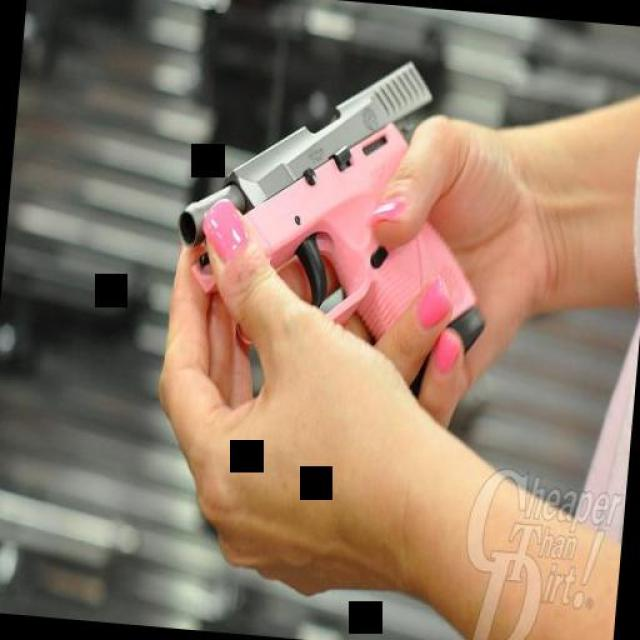gun: (161, 30, 511, 391)
